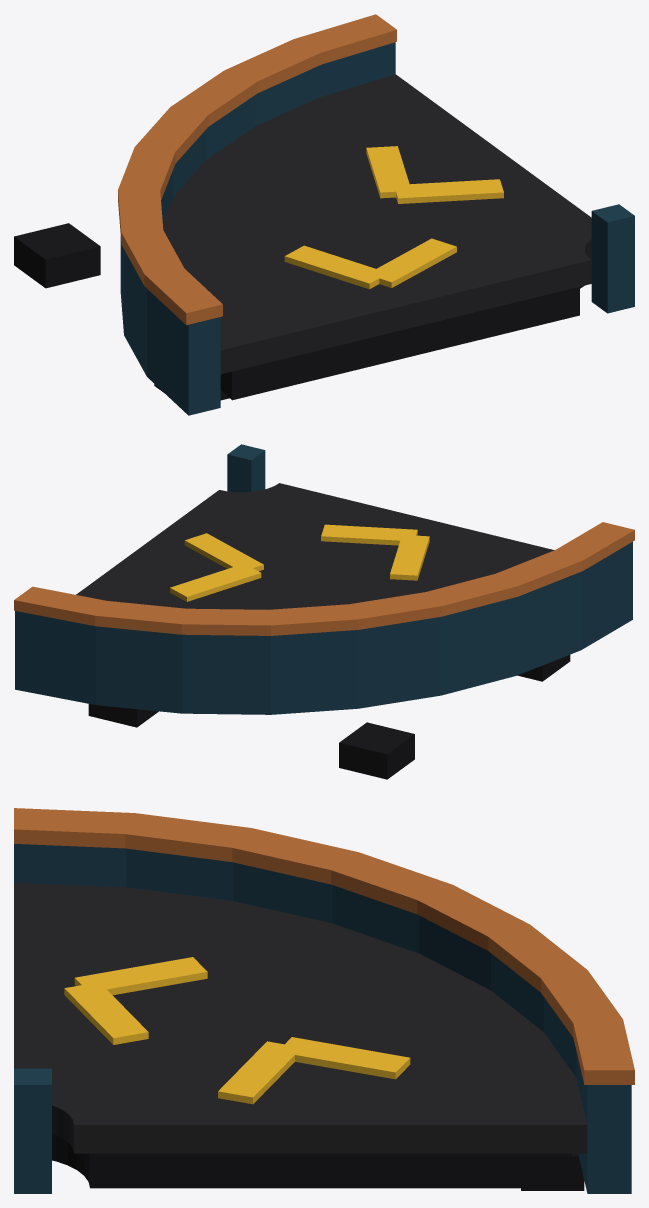
File: belt_corner_l.obj
3 renders of one model, top to bottom at view 1: azimuth 30°, elevation 25°; view 2: azimuth 150°, elevation 25°; view 3: azimuth 270°, elevation 25°, orthographic. The views are drawn at different scales.
Parts seen in each view (by area): view 1: Belt, Frame, Arrows; view 2: Frame, Belt, Arrows; view 3: Belt, Frame, Arrows.
Boxes of the visible parts, x1=… form: Belt: x1=162, y1=74, x2=591, y2=400; Frame: x1=14, y1=14, x2=634, y2=415; Arrows: x1=284, y1=146, x2=503, y2=289; Frame: x1=14, y1=444, x2=634, y2=779; Belt: x1=76, y1=483, x2=554, y2=609; Arrows: x1=170, y1=524, x2=429, y2=601; Belt: x1=14, y1=882, x2=587, y2=1188; Frame: x1=14, y1=808, x2=634, y2=1193; Arrows: x1=64, y1=957, x2=410, y2=1104.
Bounding box in the file's own units: 0.98 × 0.275 × 0.98.
